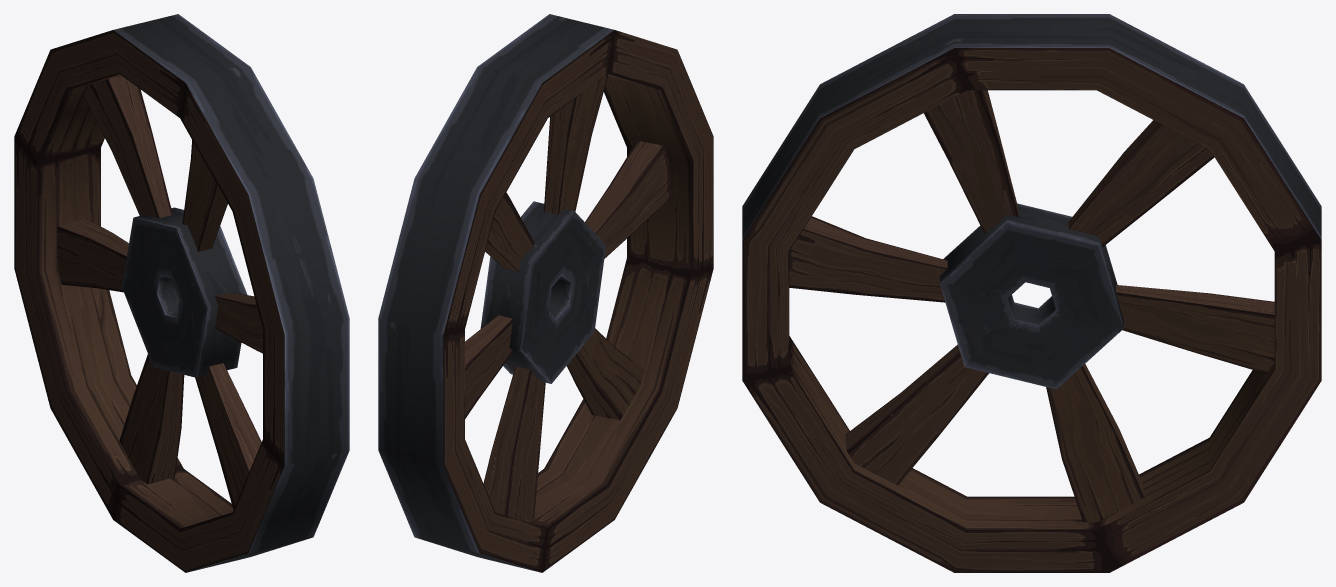
The model's file is SM_PROP_wheel_battle_03.fbx.
3 views of the same model, side by side, from view 1: azimuth 30°, elevation 25°; view 2: azimuth 150°, elevation 25°; view 3: azimuth 270°, elevation 25° (orthographic). The views are drawn at different scales.
Parts seen in each view (by area): view 1: SM_PROP_wheel_battle_03; view 2: SM_PROP_wheel_battle_03; view 3: SM_PROP_wheel_battle_03.
Boxes of the visible parts, <box> form: SM_PROP_wheel_battle_03: <box>14,14,349,572</box>; SM_PROP_wheel_battle_03: <box>378,14,713,572</box>; SM_PROP_wheel_battle_03: <box>742,14,1321,572</box>.
Bounding box in the file's own units: 19.22 × 138 × 138.
